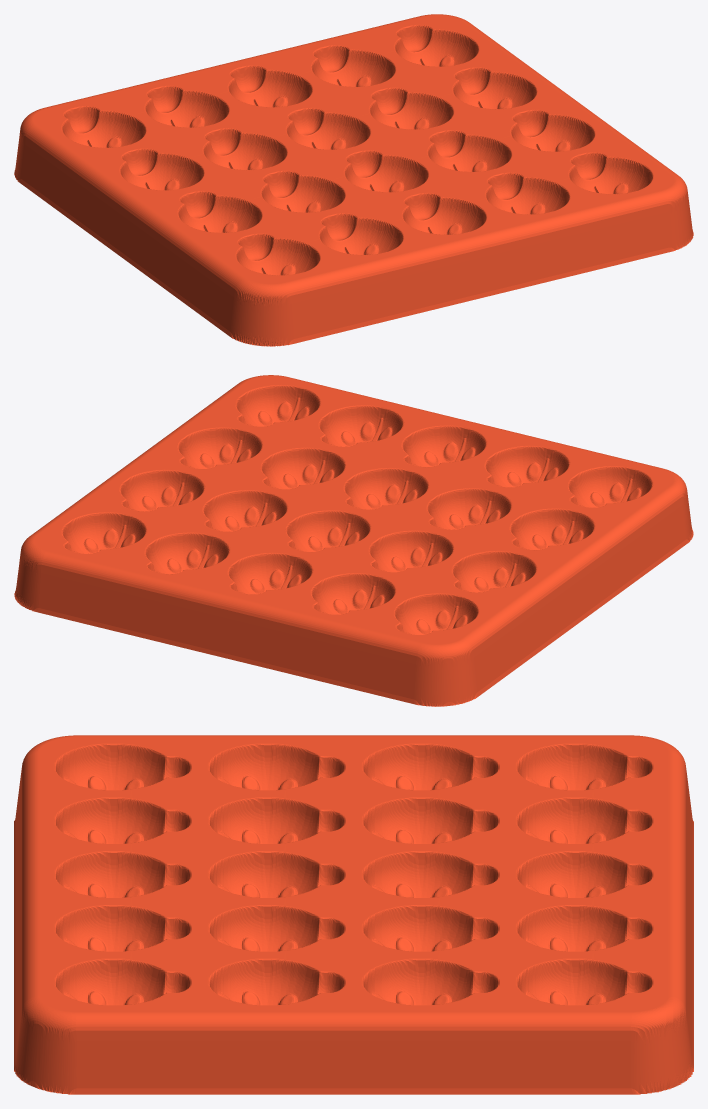
The model's file is mold.glb.
3 views of the same model, one above another, from view 1: azimuth 30°, elevation 25°; view 2: azimuth 150°, elevation 25°; view 3: azimuth 270°, elevation 25° (orthographic). The views are drawn at different scales.
Visible parts, largest first — view 1: geometry_0; view 2: geometry_0; view 3: geometry_0.
Part boxes in pixels (<box>): geometry_0: <box>14,14,693,346</box>; geometry_0: <box>14,375,693,706</box>; geometry_0: <box>14,735,693,1094</box>.
Bounding box in the file's own units: 0.1002 × 0.0113 × 0.0972.
